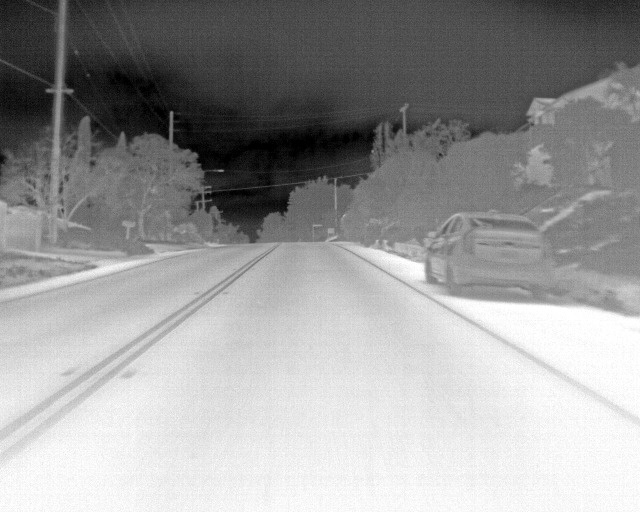vehicle: (427, 213, 548, 295)
